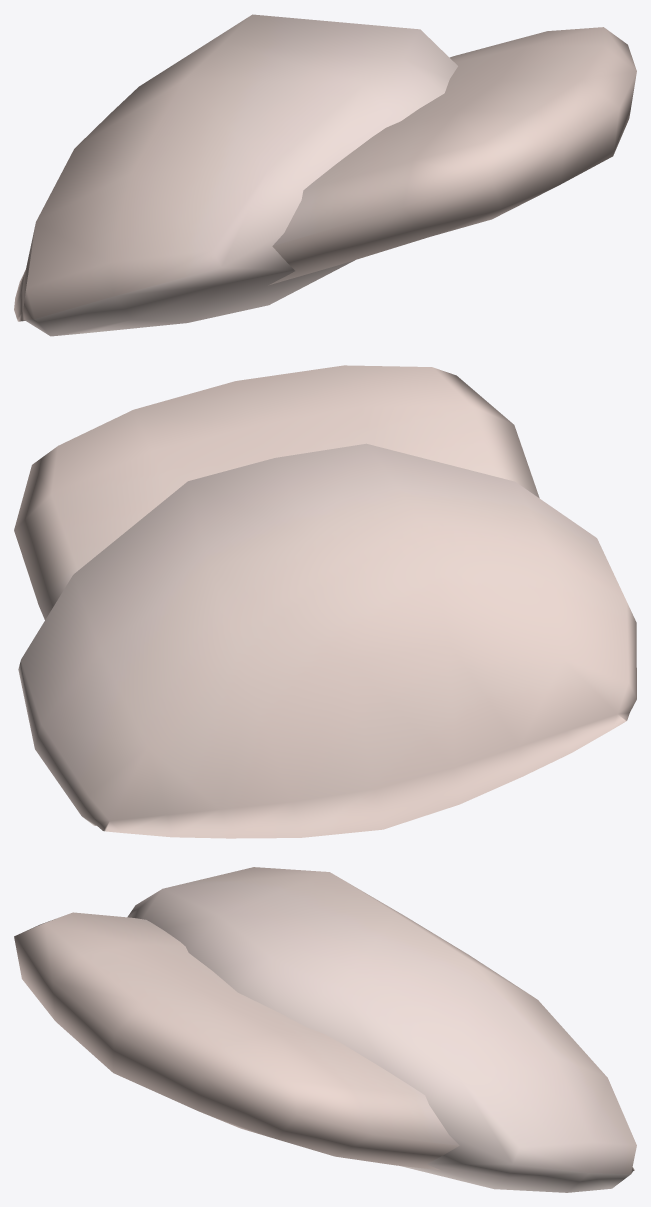
3 renders of one model, top to bottom at view 1: azimuth 30°, elevation 25°; view 2: azimuth 150°, elevation 25°; view 3: azimuth 270°, elevation 25°, orthographic. The views are drawn at different scales.
Visible parts, largest first — view 1: final.005_final.075; view 2: final.005_final.075; view 3: final.005_final.075.
Boxes of the visible parts, x1,y1,x2,y2 form: final.005_final.075: (14, 14, 636, 336); final.005_final.075: (14, 365, 636, 838); final.005_final.075: (14, 867, 636, 1192).
Size of the model in its own units: 0.6812 by 0.2892 by 0.6472.
